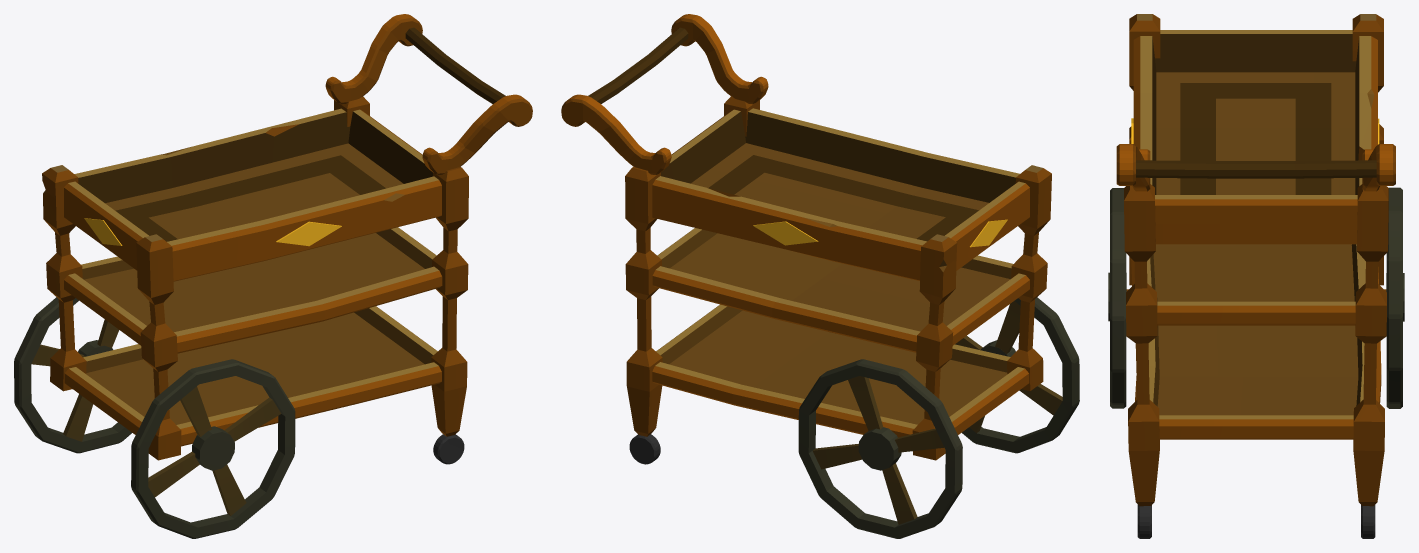
The model's file is Trolley.fbx.
The picture shows the model from 3 angles, left to right: view 1: azimuth 30°, elevation 25°; view 2: azimuth 150°, elevation 25°; view 3: azimuth 270°, elevation 25°; orthographic projection. The views are drawn at different scales.
Visible parts, largest first — view 1: Cube, Cube.001, Cube.002; view 2: Cube, Cube.002, Cube.001; view 3: Cube, Cube.002, Cube.001.
Boxes of the visible parts, <box> form: Cube: <box>42,14,532,464</box>; Cube.001: <box>131,359,295,538</box>; Cube.002: <box>14,297,131,453</box>; Cube: <box>561,14,1051,464</box>; Cube.002: <box>798,359,962,538</box>; Cube.001: <box>955,297,1079,453</box>; Cube: <box>1116,14,1395,538</box>; Cube.002: <box>1386,187,1404,408</box>; Cube.001: <box>1108,188,1126,408</box>.
Bounding box in the file's own units: 119 × 102 × 64.68.
